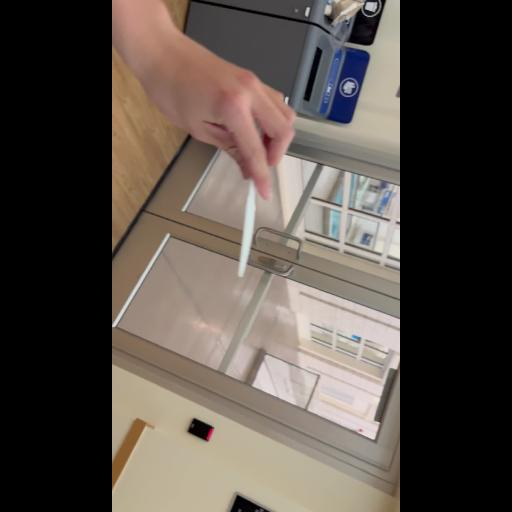utensil: (234, 86, 290, 280)
